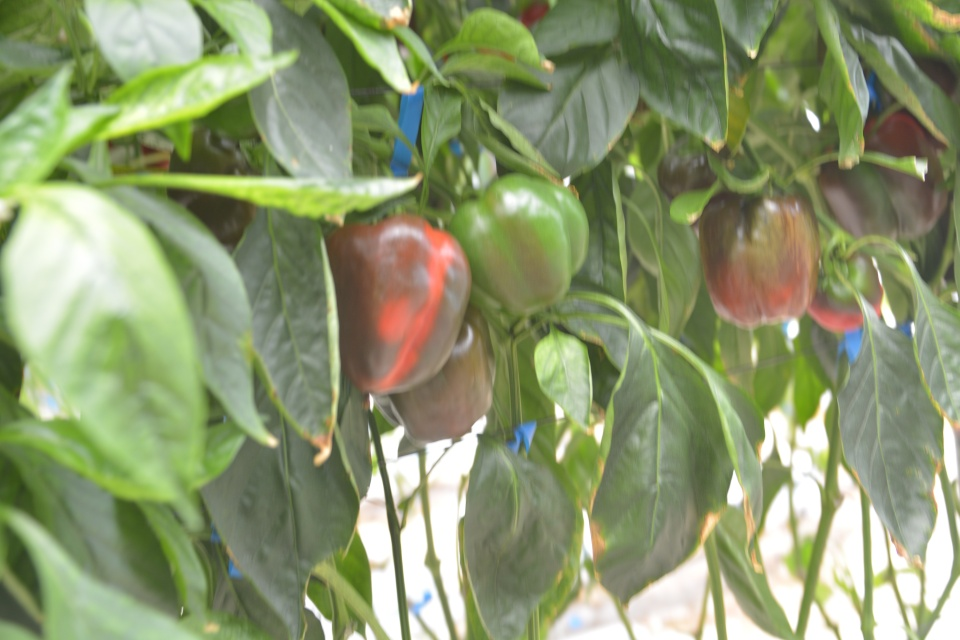fruit: (320, 210, 463, 397), (447, 167, 591, 320), (695, 181, 820, 330), (818, 108, 951, 248), (389, 306, 498, 445), (165, 124, 259, 247), (805, 242, 884, 335), (655, 142, 719, 200)
pedicle: (829, 245, 849, 281)
